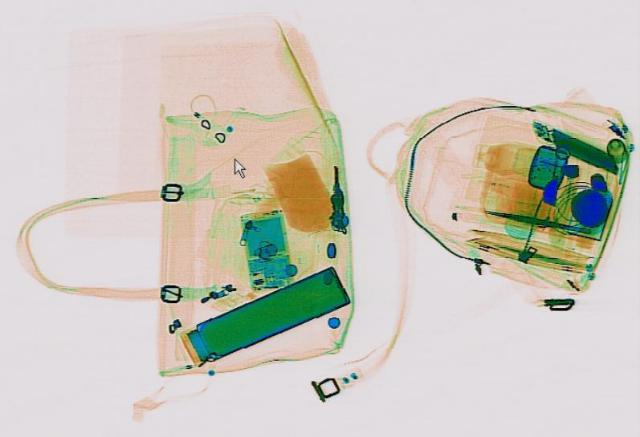Knife: (482, 206, 592, 233)
